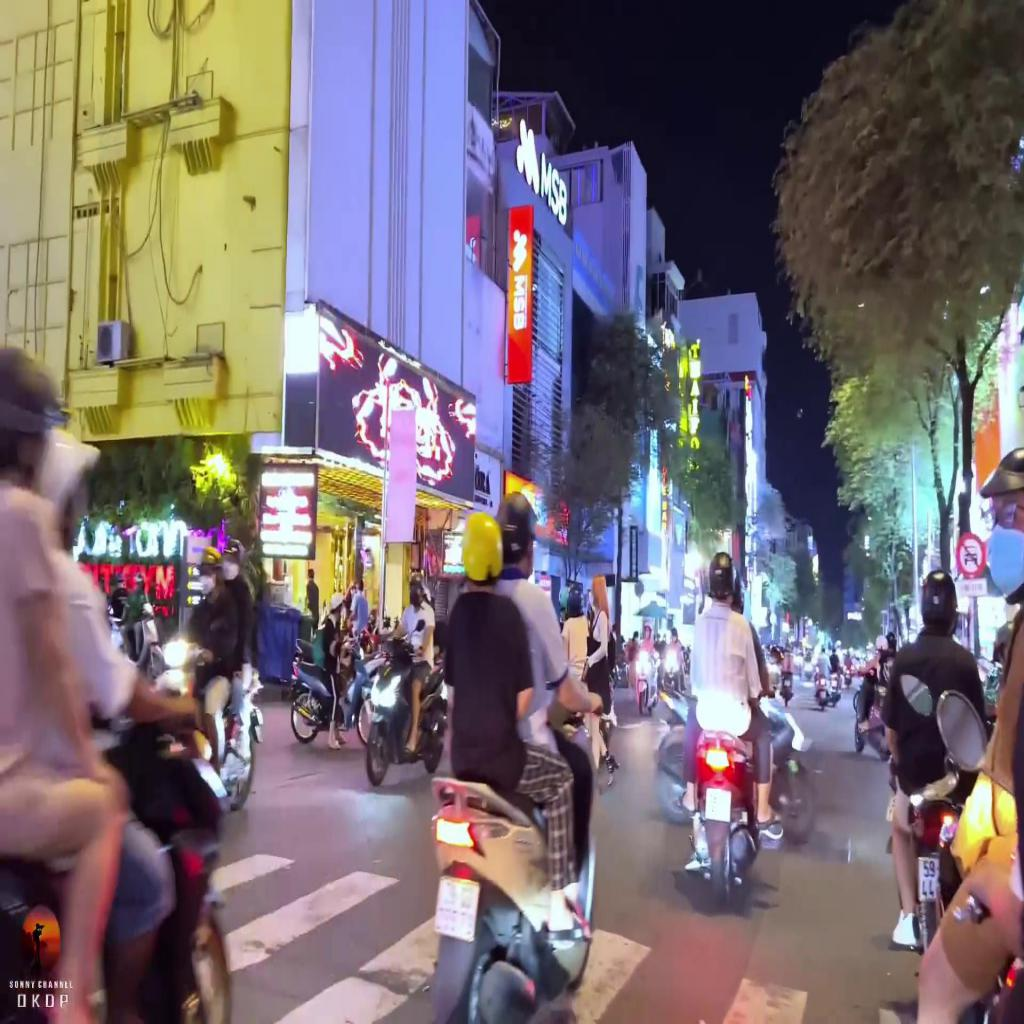cam_o_to: (956, 531, 986, 579)
khac: (957, 580, 985, 600)
